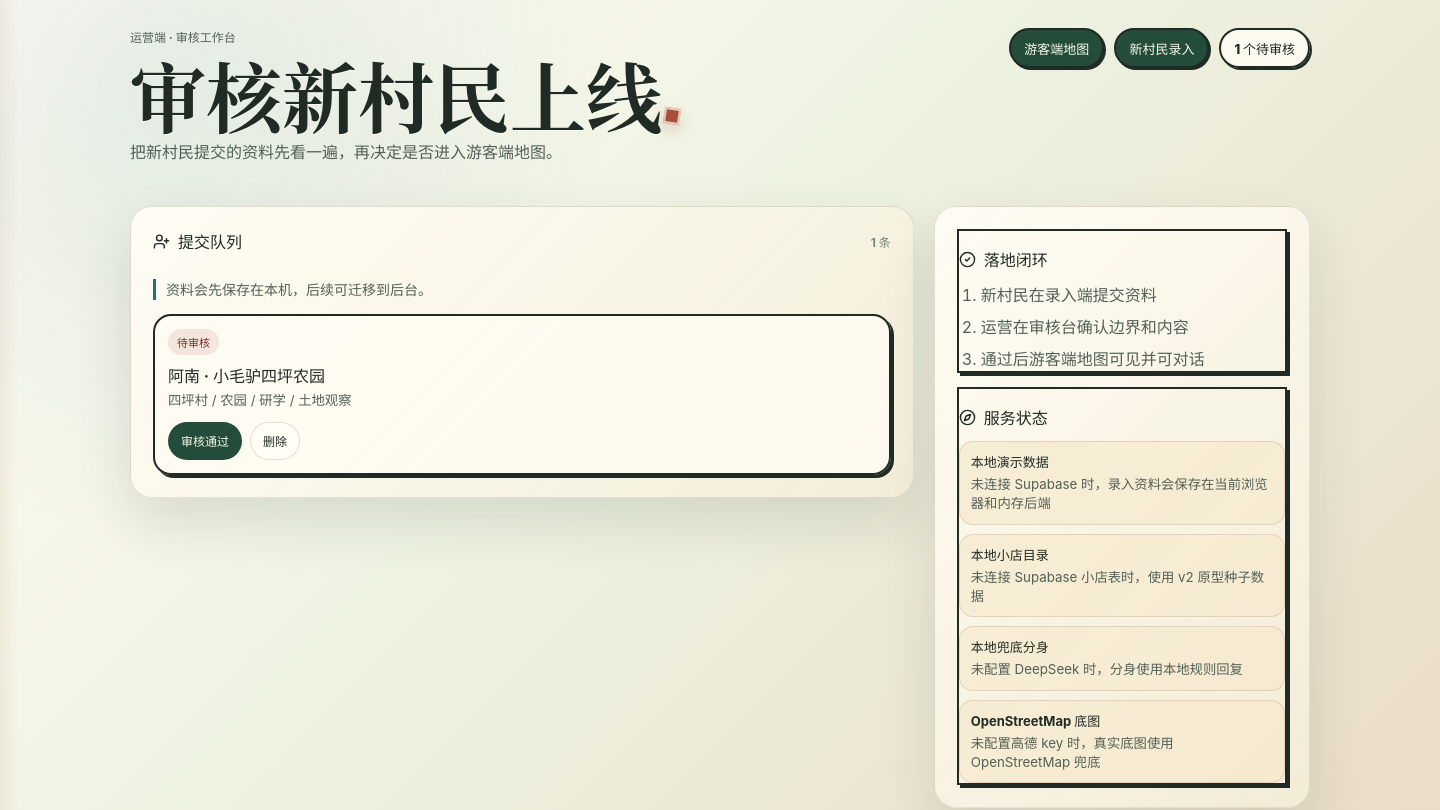
Test case: Cunxun demo app › provides a separate studio route for reviewing villager submissions
Expected: the heading "审核新村民上线" is shown, [130,59,662,130]
Expected: the element named "待审核新村民" is shown, [130,206,914,498]
Click the button "审核通过". click: (205, 441)
box: [168,422,242,460]
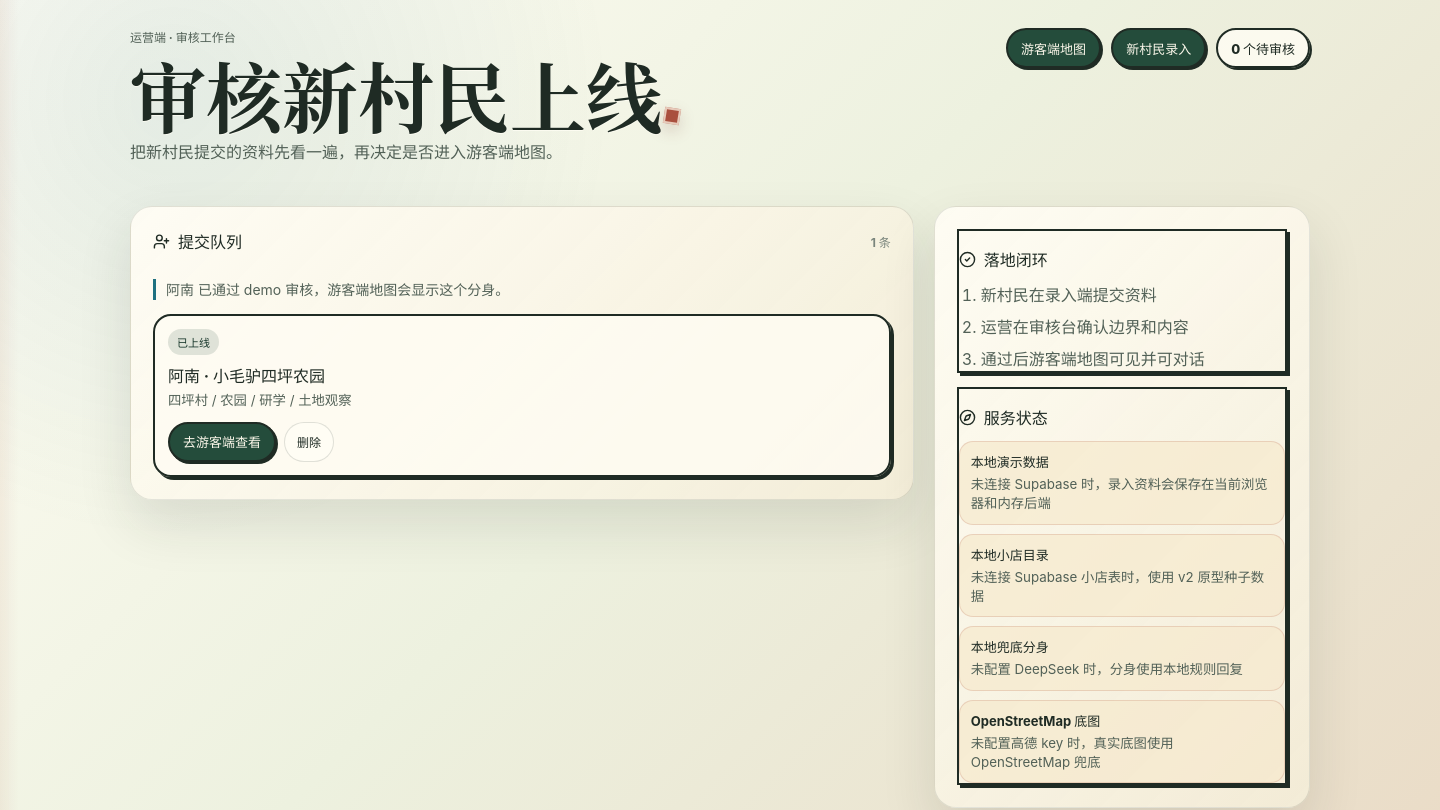
Expected: the text "阿南 已通过 demo 审核，游客端地图会显示这个分身。" is shown, [153,279,891,300]
Expected: the text "已上线" is shown, [168,329,219,355]
